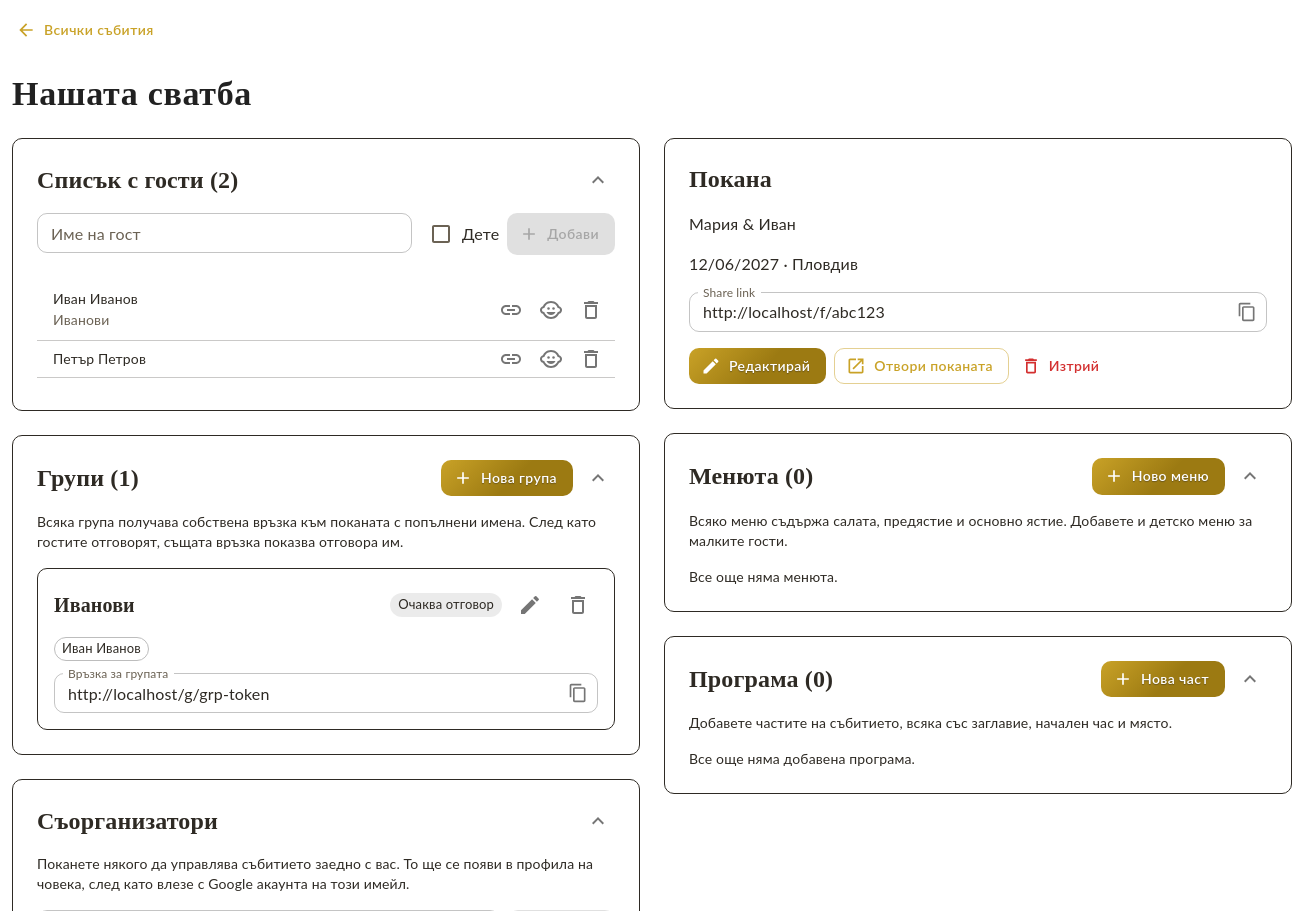
EventPage › adds a guest and keeps the list sorted
Type "  Ана Антонова " into the field labelled "Име на гост" at coordinates (225, 234), box left=37, top=214, right=412, bottom=254
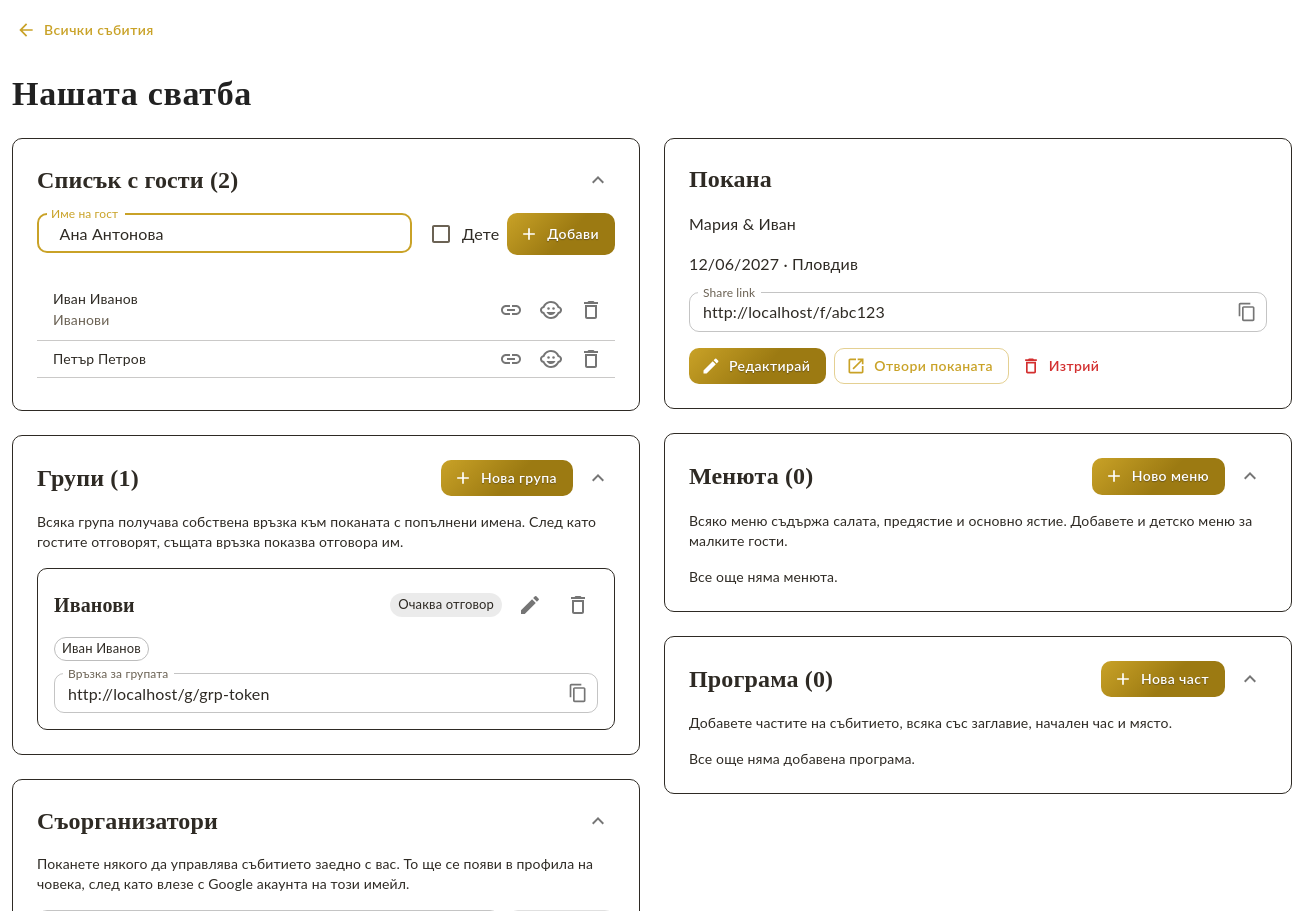
Click the button "Добави" at coordinates (561, 234), box left=507, top=214, right=615, bottom=256
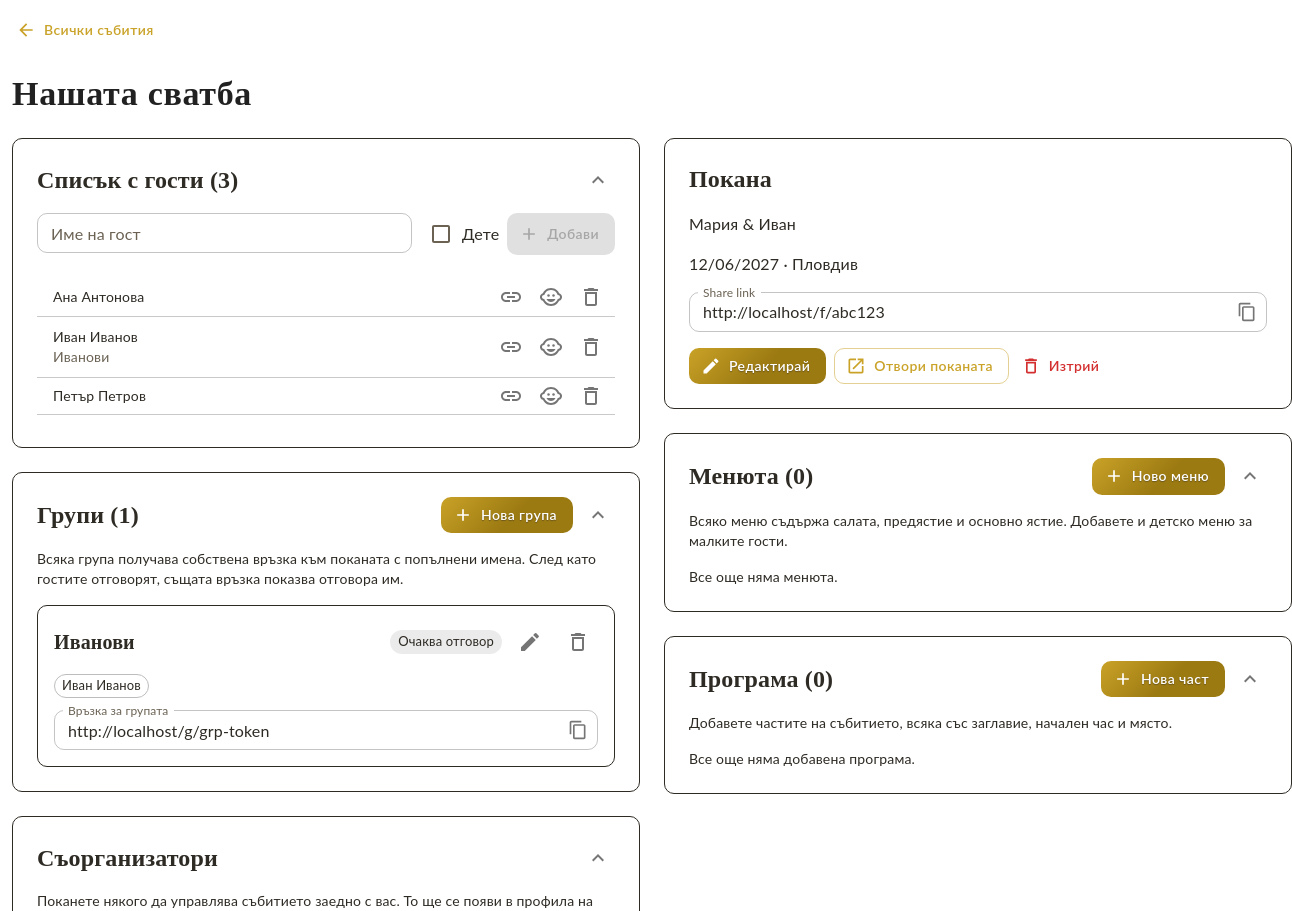
Now the heading "Списък с гости (3)" is shown, box left=37, top=164, right=238, bottom=196
Now the field labelled "Име на гост" is empty, box left=37, top=214, right=412, bottom=254
